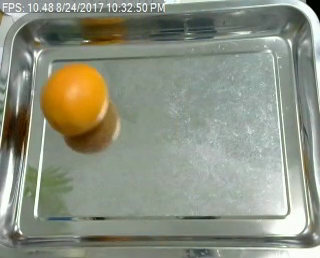Orange: (40, 62, 108, 135)
